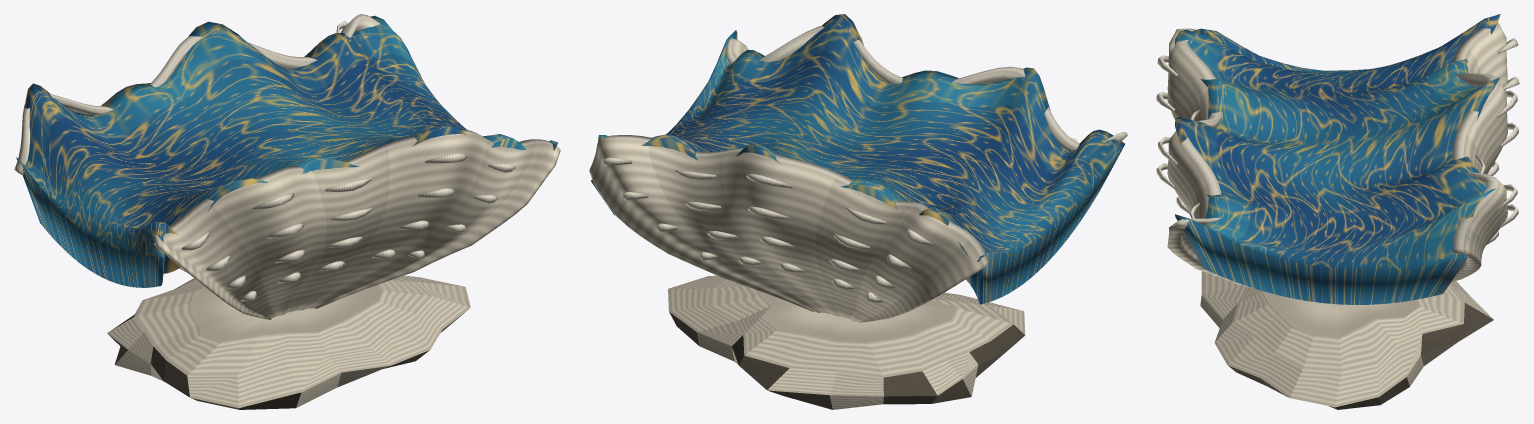
Rendered from giant_clam.glb.
3 renders of one model, left to right at view 1: azimuth 30°, elevation 25°; view 2: azimuth 150°, elevation 25°; view 3: azimuth 270°, elevation 25°, orthographic.
Parts seen in each view (by area): view 1: giant_clam; view 2: giant_clam; view 3: giant_clam.
Part boxes in pixels (bbox=[...]): giant_clam: bbox=[14, 14, 560, 409]; giant_clam: bbox=[589, 14, 1127, 409]; giant_clam: bbox=[1156, 14, 1519, 409].
Bounding box in the file's own units: 2.32 × 1.44 × 1.84.
Materials: 1 (1 with a texture image).
